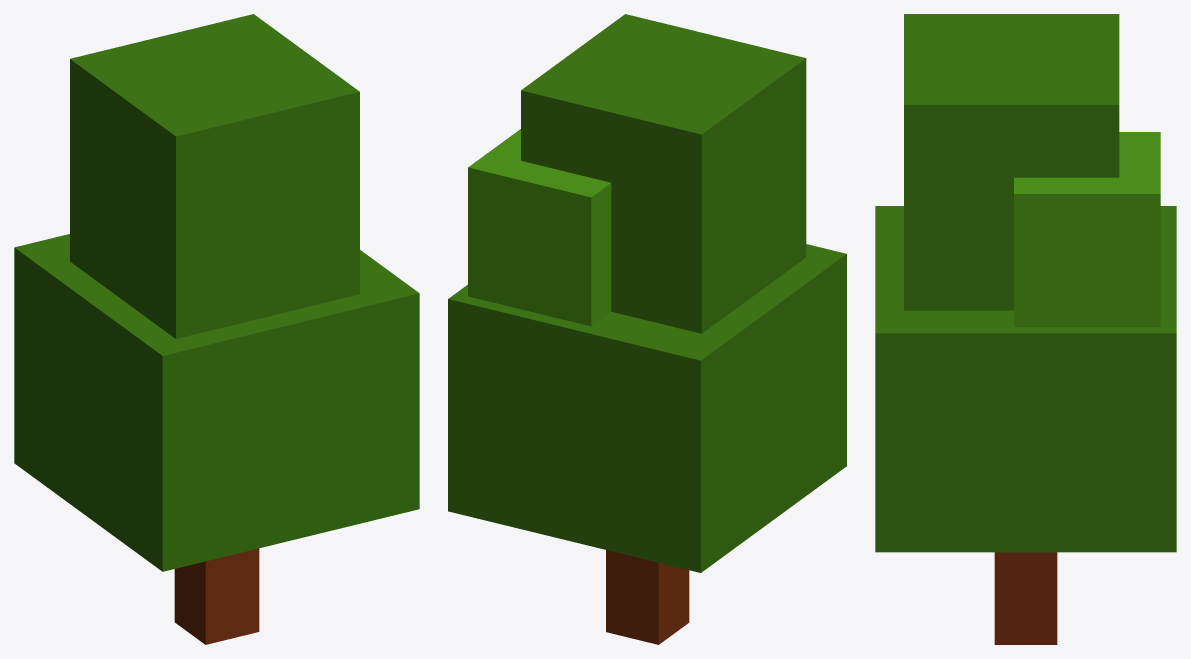
Rendered from Tree_Tall_Green_02_Dark.fbx.
The picture shows the model from 3 angles, left to right: view 1: azimuth 30°, elevation 25°; view 2: azimuth 150°, elevation 25°; view 3: azimuth 270°, elevation 25°; orthographic projection. The views are drawn at different scales.
Parts seen in each view (by area): view 1: Cube; view 2: Cube; view 3: Cube.
Part boxes in pixels (x1,y1,x2,y2): Cube: (14, 14, 419, 644); Cube: (448, 14, 846, 644); Cube: (875, 14, 1176, 644).
Bounding box in the file's own units: 0.9559 × 1.99 × 0.9559.
